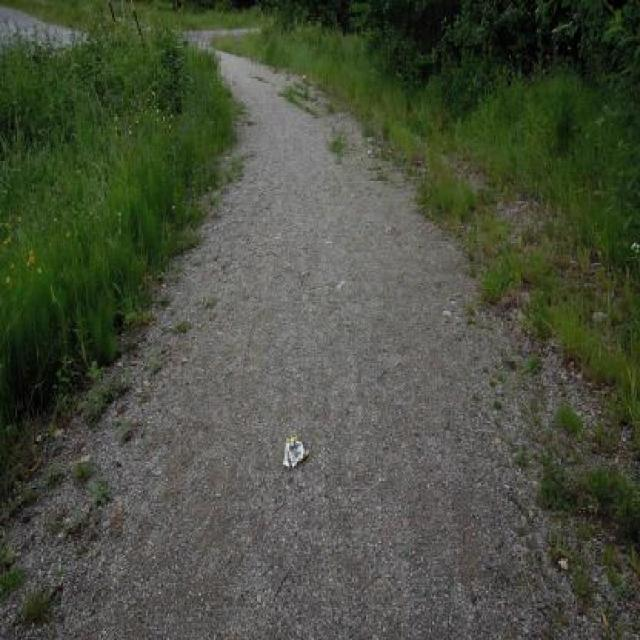garbage: (280, 433, 314, 469)
